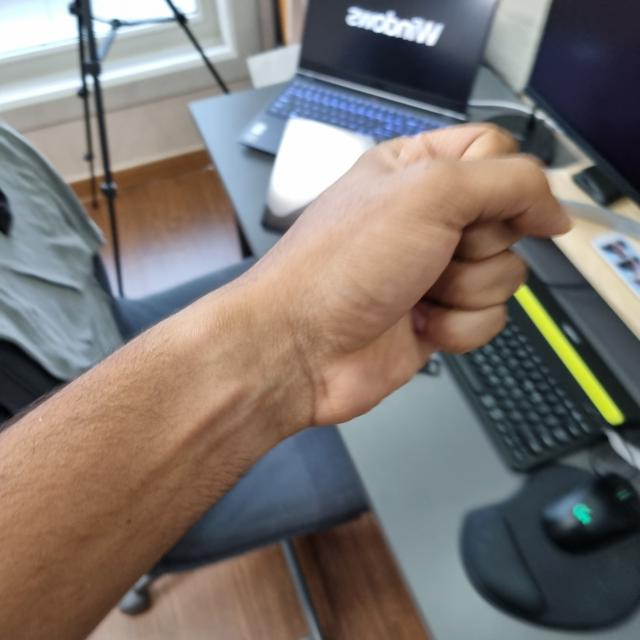Rock: (202, 126, 567, 426)
